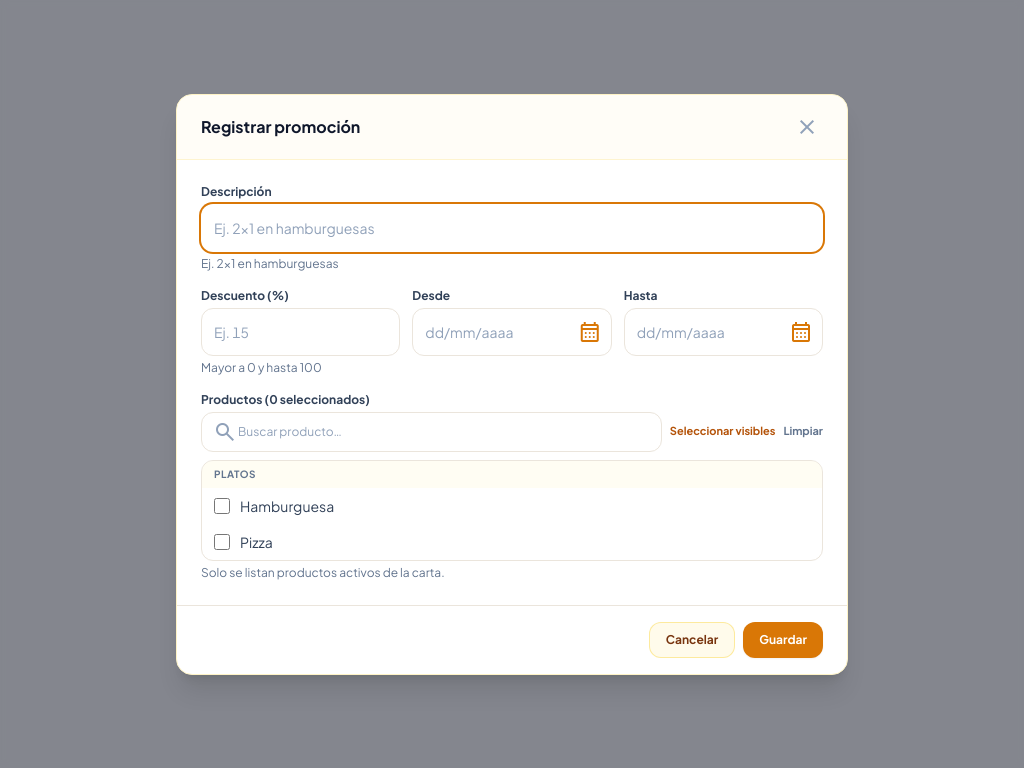
Test: PromocionForm › valida obligatorios, descuento, fechas y productos (CA2 y CA3)
Expected: the checkbox labelled "Hamburguesa" is shown, [214,498,230,514]
Click the button "Guardar" at (783, 640), box [743,622,823,658]
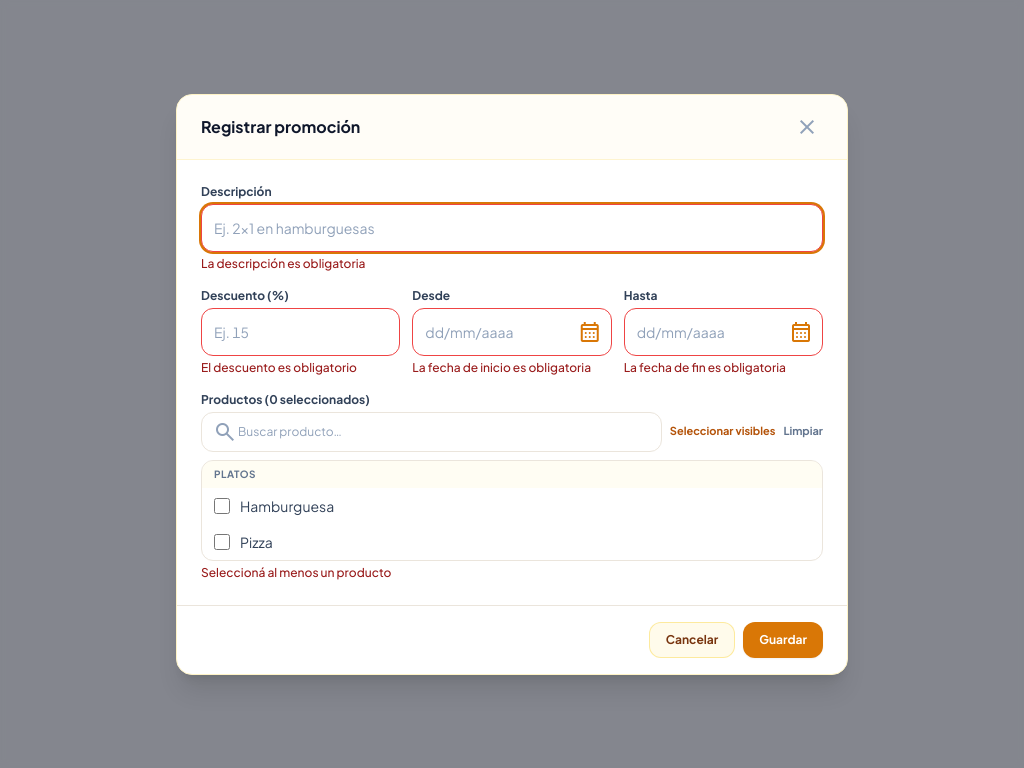
Expected: the text "La descripción es obligatoria" is shown, [201,256,365,270]
Expected: the text "El descuento es obligatorio" is shown, [201,360,357,374]
Expected: the text "La fecha de inicio es obligatoria" is shown, [412,360,612,376]
